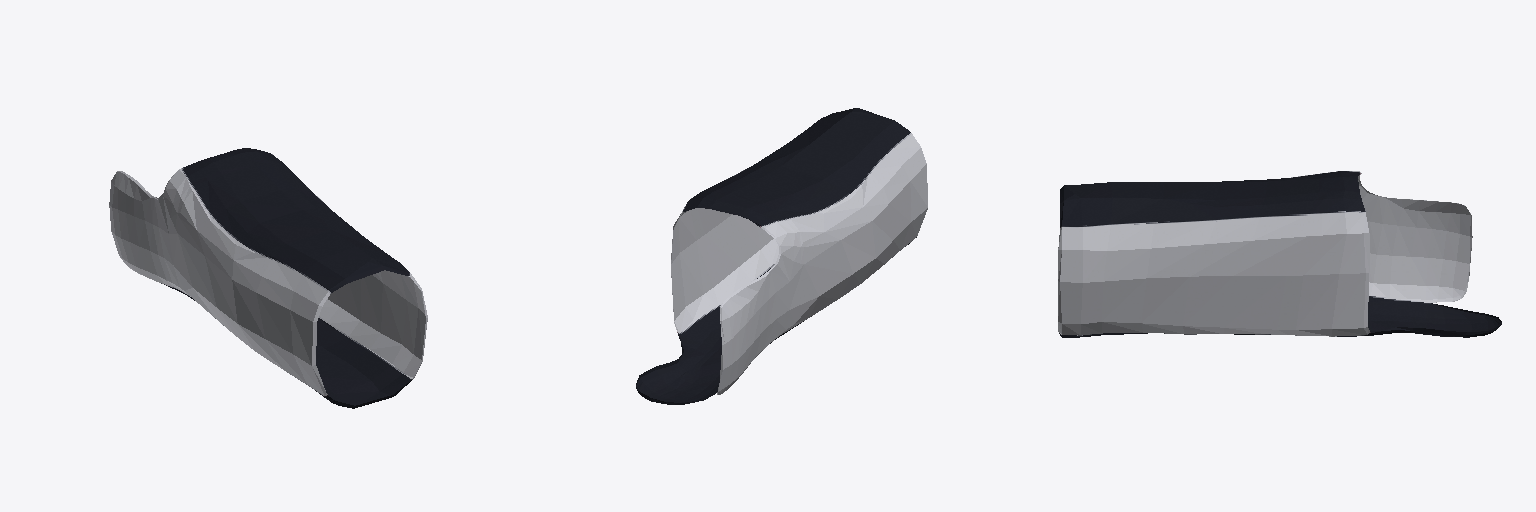
3 views of the same model, side by side, from view 1: azimuth 30°, elevation 25°; view 2: azimuth 150°, elevation 25°; view 3: azimuth 270°, elevation 25° (orthographic).
Visible parts, largest first — view 1: R_SHOULDER_Y-471-FACES; view 2: R_SHOULDER_Y-471-FACES; view 3: R_SHOULDER_Y-471-FACES.
Boxes of the visible parts, <box> form: R_SHOULDER_Y-471-FACES: <box>109,148,427,408</box>; R_SHOULDER_Y-471-FACES: <box>636,108,927,404</box>; R_SHOULDER_Y-471-FACES: <box>1058,171,1501,337</box>.
Size of the model in its own units: 0.0782 by 0.0876 by 0.2351.
1 materials, 1 textured.